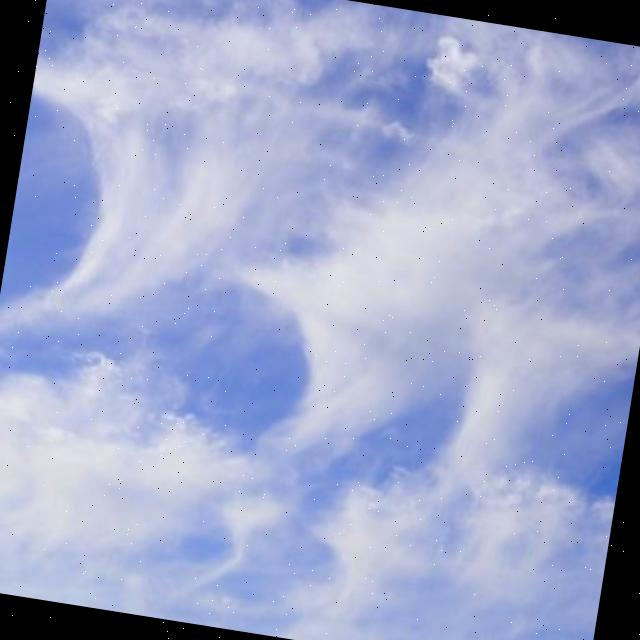Cc: (1, 8, 640, 553)
